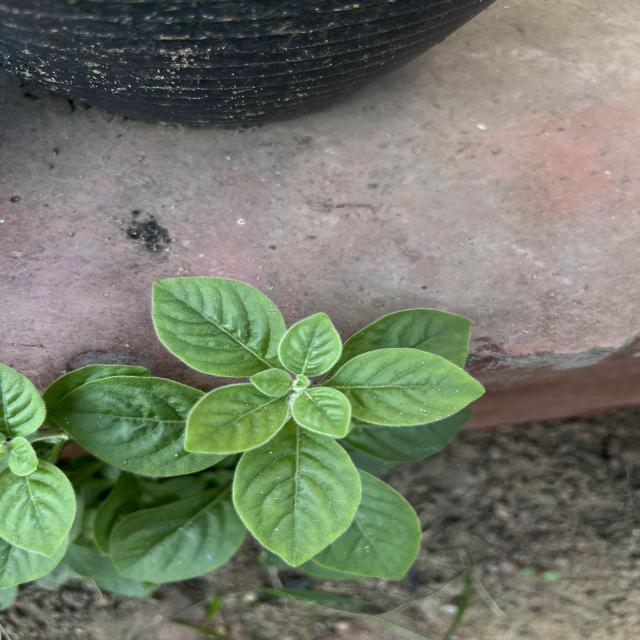Aerva lanata: (46, 373, 232, 480), (228, 424, 364, 570), (150, 274, 290, 380), (318, 345, 488, 430), (180, 382, 292, 456), (274, 311, 346, 378), (288, 384, 354, 440), (248, 367, 294, 399)
